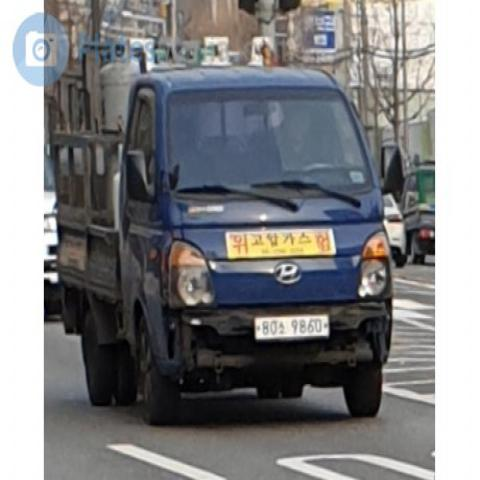LP: (250, 308, 337, 342)
